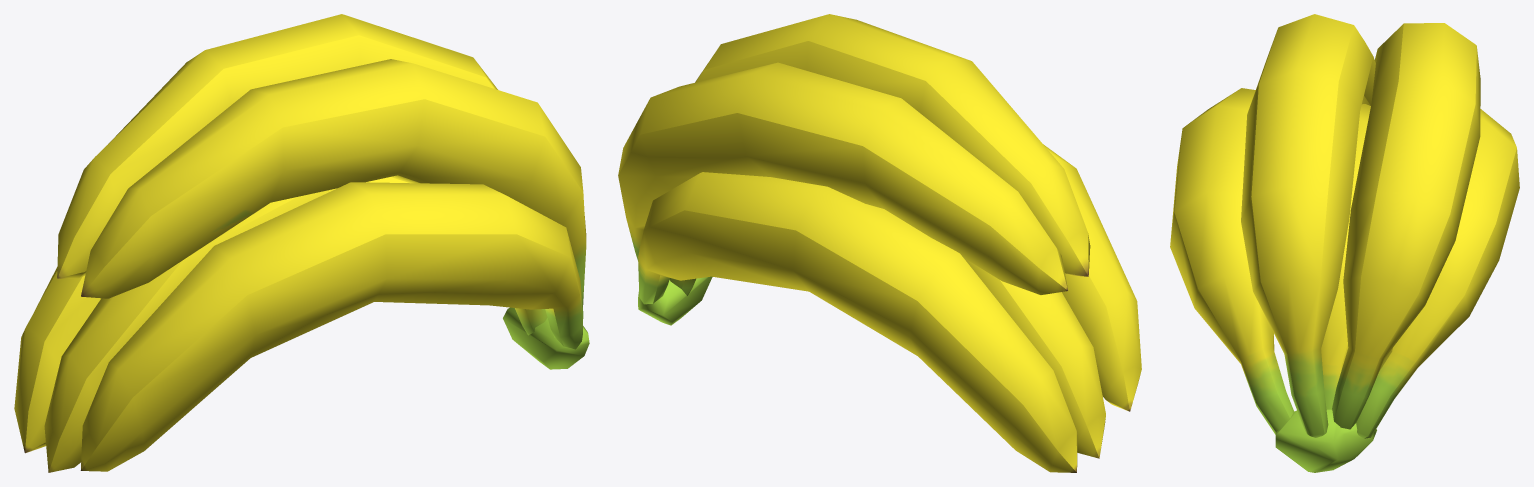
The model's file is banana brunc.fbx.
3 renders of one model, left to right at view 1: azimuth 30°, elevation 25°; view 2: azimuth 150°, elevation 25°; view 3: azimuth 270°, elevation 25°, orthographic. The views are drawn at different scales.
Parts seen in each view (by area): view 1: banana.005, banana.001, banana.002, banana.003, banana.004, spine; view 2: banana.004, banana.002, banana.001, banana.005, banana.003, spine; view 3: banana.001, banana.002, banana.005, banana.004, spine, banana.003.
Boxes of the visible parts, x1,y1,x2,y2 form: banana.005: (80, 182, 583, 471); banana.001: (81, 59, 586, 306); banana.002: (57, 14, 497, 278); banana.003: (44, 177, 547, 472); banana.004: (14, 266, 100, 453); spine: (503, 307, 589, 369); banana.004: (638, 172, 1077, 472); banana.002: (618, 62, 1067, 294); banana.001: (695, 14, 1090, 276); banana.005: (1043, 144, 1141, 411); banana.003: (669, 257, 1105, 458); spine: (638, 276, 712, 325); banana.001: (1241, 14, 1375, 437); banana.002: (1332, 23, 1480, 429); banana.005: (1170, 88, 1293, 434); banana.004: (1356, 109, 1519, 438); spine: (1275, 409, 1376, 472); banana.003: (1321, 104, 1370, 409).
Bounding box in the file's own units: 1035 × 705 × 662.
